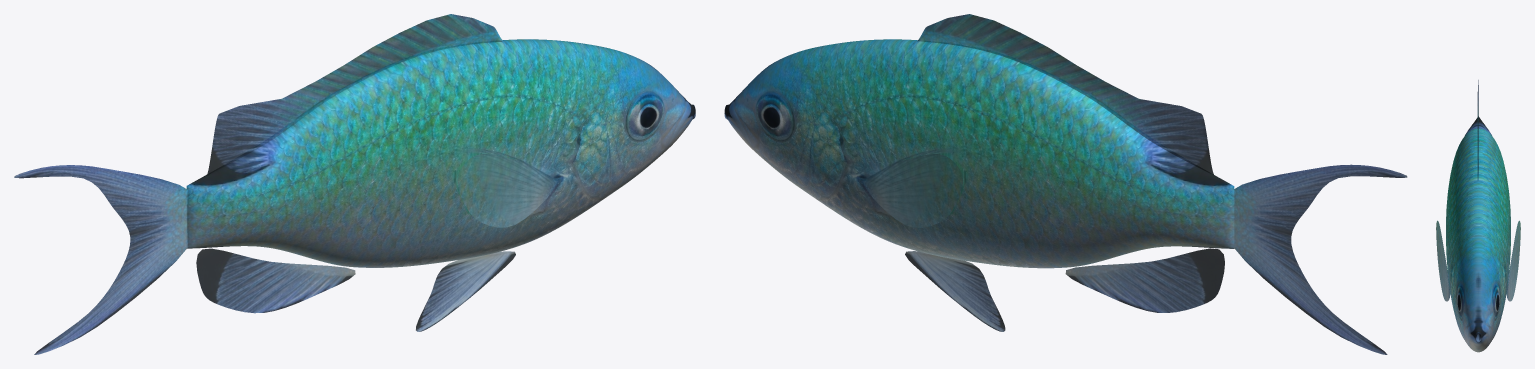
The model's file is chromis-ArXoNpqP.glb.
The picture shows the model from 3 angles, left to right: view 1: azimuth 30°, elevation 25°; view 2: azimuth 150°, elevation 25°; view 3: azimuth 270°, elevation 25°; orthographic projection. The views are drawn at different scales.
Parts seen in each view (by area): view 1: chromis__body, chromis__fin_0, chromis__fin_1, chromis__fin_2, chromis__pectoral_1, chromis__fin_3, chromis__gill_1, chromis__eye_1; view 2: chromis__body, chromis__fin_0, chromis__fin_1, chromis__fin_2, chromis__pectoral_-1, chromis__fin_3, chromis__gill_-1, chromis__eye_-1; view 3: chromis__body, chromis__pectoral_1, chromis__pectoral_-1, chromis__gill_1, chromis__gill_-1, chromis__fin_1, chromis__eye_1, chromis__eye_-1.
Boxes of the visible parts, x1,y1,x2,y2 form: chromis__body: [186, 39, 695, 267]; chromis__fin_0: [14, 165, 188, 354]; chromis__fin_1: [207, 14, 503, 175]; chromis__fin_2: [196, 248, 355, 313]; chromis__pectoral_1: [457, 154, 557, 227]; chromis__fin_3: [416, 251, 515, 331]; chromis__gill_1: [566, 107, 617, 213]; chromis__eye_1: [631, 98, 661, 135]; chromis__body: [724, 39, 1234, 268]; chromis__fin_0: [1234, 164, 1407, 354]; chromis__fin_1: [917, 14, 1213, 174]; chromis__fin_2: [1065, 248, 1224, 312]; chromis__pectoral_-1: [862, 154, 963, 227]; chromis__fin_3: [905, 251, 1005, 331]; chromis__gill_-1: [802, 108, 853, 213]; chromis__eye_-1: [758, 98, 788, 135]; chromis__body: [1446, 116, 1510, 352]; chromis__pectoral_1: [1436, 220, 1450, 301]; chromis__pectoral_-1: [1506, 220, 1520, 301]; chromis__gill_1: [1451, 257, 1462, 336]; chromis__gill_-1: [1494, 257, 1505, 336]; chromis__fin_1: [1477, 80, 1478, 180]; chromis__eye_1: [1457, 287, 1462, 316]; chromis__eye_-1: [1494, 287, 1499, 316].
Size of the model in its own units: 1.35 by 0.5872 by 0.1947.
5 materials, 5 textured.
